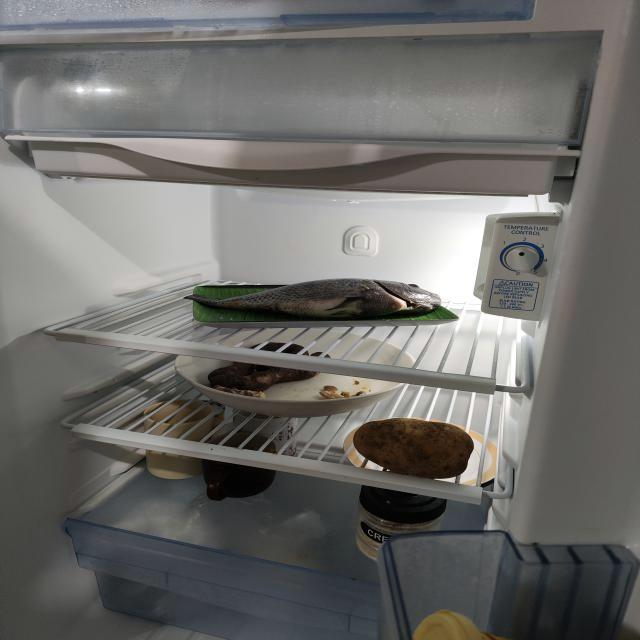fish: (183, 273, 443, 328)
potato: (349, 417, 476, 479)
